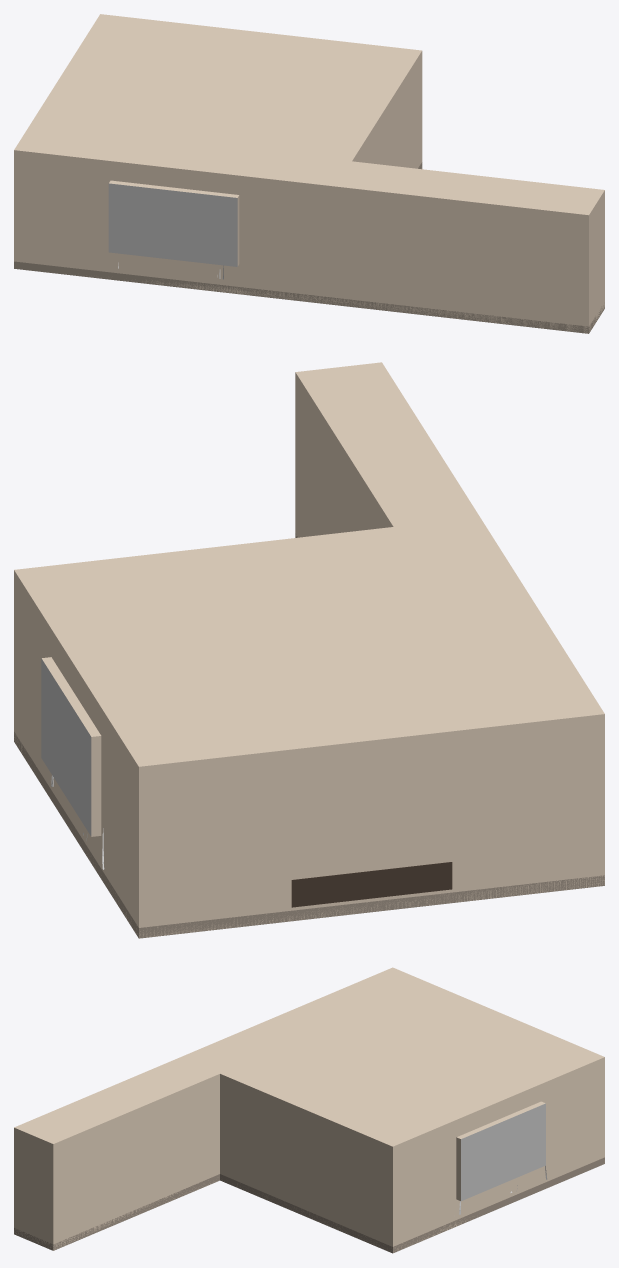
File: Env_LivingRoom.fbx
The picture shows the model from 3 angles, top to bottom: view 1: azimuth 30°, elevation 25°; view 2: azimuth 150°, elevation 25°; view 3: azimuth 270°, elevation 25°; orthographic projection. The views are drawn at different scales.
Visible parts, largest first — view 1: Walls, Baseboards; view 2: Walls, Baseboards, case_2; view 3: Walls, Baseboards.
Boxes of the visible parts, <box> form: Walls: <box>14,14,604,333</box>; Baseboards: <box>14,162,604,333</box>; Walls: <box>14,362,604,938</box>; Baseboards: <box>14,533,604,938</box>; case_2: <box>291,862,452,907</box>; Walls: <box>14,967,604,1253</box>; Baseboards: <box>14,1157,604,1253</box>.
Bounding box in the file's own units: 990 × 275 × 1379.
